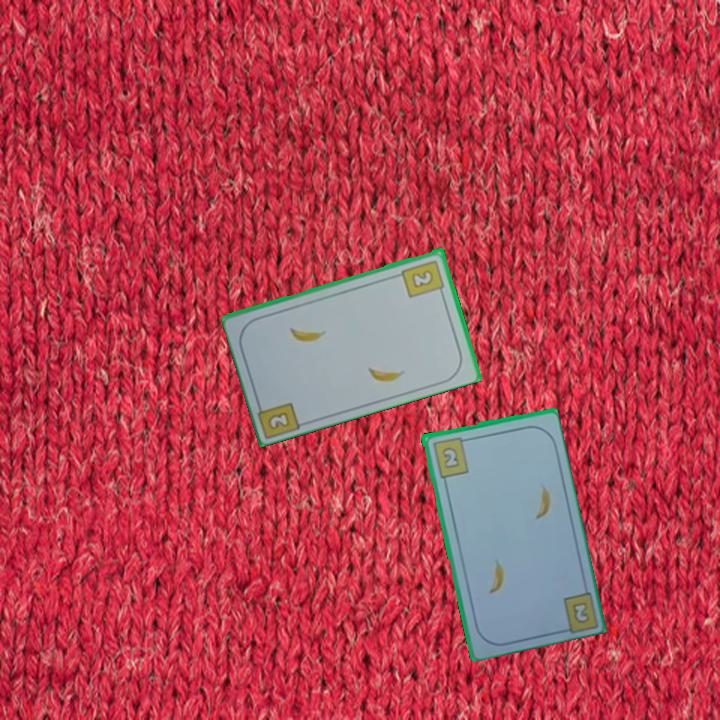2b: (398, 256, 447, 300), (429, 433, 471, 480), (265, 408, 293, 433), (568, 598, 592, 626)
